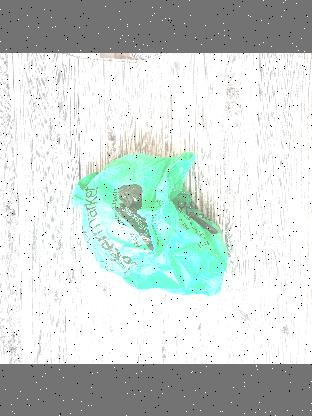Others: (72, 154, 234, 298)
